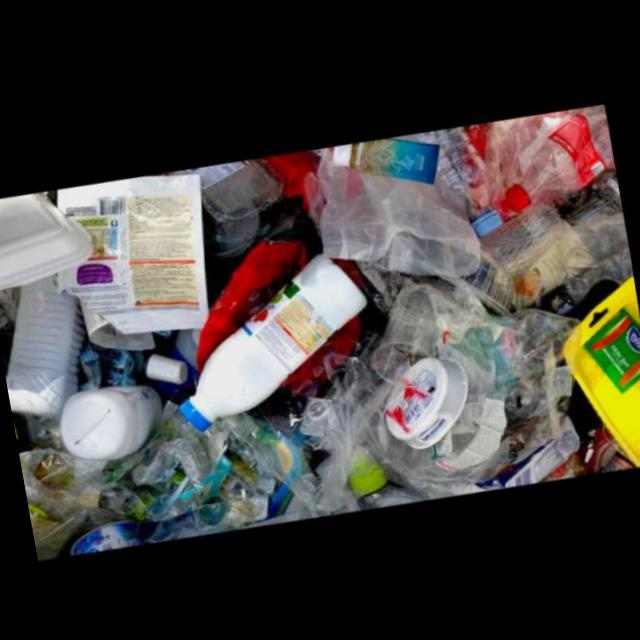chai_nhua: (180, 250, 367, 430), (59, 382, 165, 457), (332, 133, 440, 181)
chai_nhua_pet: (504, 99, 614, 208), (418, 126, 503, 232)
goi_nhua_nho: (58, 168, 210, 333)
hop_nhua: (561, 271, 640, 463), (5, 272, 87, 413), (381, 351, 470, 445), (371, 283, 441, 380)
nhom: (67, 516, 151, 556)
tui_ni_long: (293, 279, 579, 512), (312, 143, 482, 274)
xop: (0, 191, 88, 289)
